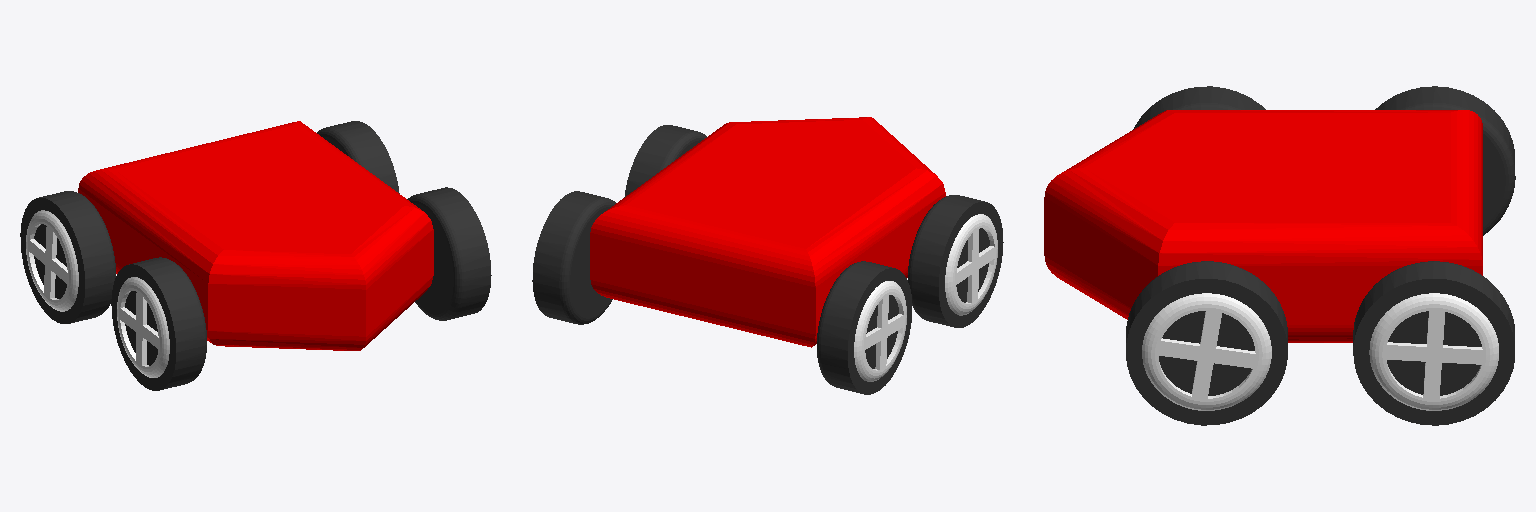
The robot description file, URDF, robot "robot_prueba_3":
<?xml version="1.0" encoding="utf-8"?>
<!-- This URDF was automatically created by SolidWorks to URDF Exporter! Originally created by [author] ([email redacted]) 
     Commit Version: 1.6.0-1-g15f4949  Build Version: 1.6.7594.29634
     For more information, please see http://wiki.ros.org/sw_urdf_exporter -->
<robot
  name="robot_prueba_3">
  <link
    name="base_car">
    <inertial>
      <origin
        xyz="0.00030715 -0.0027084 0.011218"
        rpy="0 0 0" />
      <mass
        value="0.45576" />
      <inertia
        ixx="0.00058942"
        ixy="-1.7857E-09"
        ixz="-1.0054E-09"
        iyy="0.00087806"
        iyz="-2.9187E-07"
        izz="0.00040358" />
    </inertial>
    <visual>
      <origin
        xyz="0 0 0"
        rpy="0 0 0" />
      <geometry>
        <mesh
          filename="package://robot_prueba_3/meshes/base_car.STL" />
      </geometry>
      <material
        name="">
        <color
          rgba="1 0 0 1" />
      </material>
    </visual>
    <collision>
      <origin
        xyz="0 0 0"
        rpy="0 0 0" />
      <geometry>
        <mesh
          filename="package://robot_prueba_3/meshes/base_car.STL" />
      </geometry>
    </collision>
  </link>
  <link
    name="wheel1_link">
    <inertial>
      <origin
        xyz="0.0076383 0 6.9389E-18"
        rpy="0 0 0" />
      <mass
        value="0.028764" />
      <inertia
        ixx="9.0239E-06"
        ixy="-8.1524E-24"
        ixz="4.2436E-23"
        iyy="5.0392E-06"
        iyz="0"
        izz="5.0392E-06" />
    </inertial>
    <visual>
      <origin
        xyz="0 0 0"
        rpy="0 0 0" />
      <geometry>
        <mesh
          filename="package://robot_prueba_3/meshes/wheel1_link.STL" />
      </geometry>
      <material
        name="">
        <color
          rgba="0.25098 0.25098 0.25098 1" />
      </material>
    </visual>
    <collision>
      <origin
        xyz="0 0 0"
        rpy="0 0 0" />
      <geometry>
        <mesh
          filename="package://robot_prueba_3/meshes/wheel1_link.STL" />
      </geometry>
    </collision>
  </link>
  <joint
    name="wheel1_joint"
    type="continuous">
    <origin
      xyz="0.055307 -0.037047 -0.012639"
      rpy="1.4172 0 0" />
    <parent
      link="base_car" />
    <child
      link="wheel1_link" />
    <axis
      xyz="1 0 0" />
  </joint>
  <link
    name="flag1">
    <inertial>
      <origin
        xyz="0.00091134 0 0"
        rpy="0 0 0" />
      <mass
        value="0.0013585" />
      <inertia
        ixx="2.8399E-07"
        ixy="-2.7213E-26"
        ixz="-5.6508E-25"
        iyy="1.4242E-07"
        iyz="0"
        izz="1.4242E-07" />
    </inertial>
    <visual>
      <origin
        xyz="0 0 0"
        rpy="0 0 0" />
      <geometry>
        <mesh
          filename="package://robot_prueba_3/meshes/flag1.STL" />
      </geometry>
      <material
        name="">
        <color
          rgba="1 1 1 1" />
      </material>
    </visual>
    <collision>
      <origin
        xyz="0 0 0"
        rpy="0 0 0" />
      <geometry>
        <mesh
          filename="package://robot_prueba_3/meshes/flag1.STL" />
      </geometry>
    </collision>
  </link>
  <joint
    name="flag1_joint"
    type="fixed">
    <origin
      xyz="0.015 0 0"
      rpy="0 0 0" />
    <parent
      link="wheel1_link" />
    <child
      link="flag1" />
    <axis
      xyz="0 0 0" />
  </joint>
  <link
    name="wheel2_link">
    <inertial>
      <origin
        xyz="0.0076383 0 -6.9389E-18"
        rpy="0 0 0" />
      <mass
        value="0.028764" />
      <inertia
        ixx="9.0239E-06"
        ixy="-9.6336E-25"
        ixz="1.0421E-22"
        iyy="5.0392E-06"
        iyz="5.294E-23"
        izz="5.0392E-06" />
    </inertial>
    <visual>
      <origin
        xyz="0 0 0"
        rpy="0 0 0" />
      <geometry>
        <mesh
          filename="package://robot_prueba_3/meshes/wheel2_link.STL" />
      </geometry>
      <material
        name="">
        <color
          rgba="0.25098 0.25098 0.25098 1" />
      </material>
    </visual>
    <collision>
      <origin
        xyz="0 0 0"
        rpy="0 0 0" />
      <geometry>
        <mesh
          filename="package://robot_prueba_3/meshes/wheel2_link.STL" />
      </geometry>
    </collision>
  </link>
  <joint
    name="wheel2_joint"
    type="continuous">
    <origin
      xyz="0.055307 0.032953 -0.012639"
      rpy="1.511 0 0" />
    <parent
      link="base_car" />
    <child
      link="wheel2_link" />
    <axis
      xyz="1 0 0" />
  </joint>
  <link
    name="flag2">
    <inertial>
      <origin
        xyz="0.00091134 0 -6.9389E-18"
        rpy="0 0 0" />
      <mass
        value="0.0013585" />
      <inertia
        ixx="2.8399E-07"
        ixy="-3.5406E-25"
        ixz="-3.4763E-25"
        iyy="1.4242E-07"
        iyz="1.6544E-24"
        izz="1.4242E-07" />
    </inertial>
    <visual>
      <origin
        xyz="0 0 0"
        rpy="0 0 0" />
      <geometry>
        <mesh
          filename="package://robot_prueba_3/meshes/flag2.STL" />
      </geometry>
      <material
        name="">
        <color
          rgba="1 1 1 1" />
      </material>
    </visual>
    <collision>
      <origin
        xyz="0 0 0"
        rpy="0 0 0" />
      <geometry>
        <mesh
          filename="package://robot_prueba_3/meshes/flag2.STL" />
      </geometry>
    </collision>
  </link>
  <joint
    name="flag2_joint"
    type="fixed">
    <origin
      xyz="0.015 0 0"
      rpy="0 0 0" />
    <parent
      link="wheel2_link" />
    <child
      link="flag2" />
    <axis
      xyz="0 0 0" />
  </joint>
  <link
    name="wheel3_link">
    <inertial>
      <origin
        xyz="-0.0076383 0 0"
        rpy="0 0 0" />
      <mass
        value="0.028764" />
      <inertia
        ixx="9.0239E-06"
        ixy="-8.637E-25"
        ixz="-1.1379E-22"
        iyy="5.0392E-06"
        iyz="1.3235E-23"
        izz="5.0392E-06" />
    </inertial>
    <visual>
      <origin
        xyz="0 0 0"
        rpy="0 0 0" />
      <geometry>
        <mesh
          filename="package://robot_prueba_3/meshes/wheel3_link.STL" />
      </geometry>
      <material
        name="">
        <color
          rgba="0.25098 0.25098 0.25098 1" />
      </material>
    </visual>
    <collision>
      <origin
        xyz="0 0 0"
        rpy="0 0 0" />
      <geometry>
        <mesh
          filename="package://robot_prueba_3/meshes/wheel3_link.STL" />
      </geometry>
    </collision>
  </link>
  <joint
    name="wheel3_joint"
    type="continuous">
    <origin
      xyz="-0.054693 -0.037047 -0.012639"
      rpy="1.5916 0 0" />
    <parent
      link="base_car" />
    <child
      link="wheel3_link" />
    <axis
      xyz="1 0 0" />
  </joint>
  <link
    name="flag3">
    <inertial>
      <origin
        xyz="0.00091134 -1.7347E-18 -6.9389E-18"
        rpy="0 0 0" />
      <mass
        value="0.0013585" />
      <inertia
        ixx="2.8399E-07"
        ixy="-5.3095E-25"
        ixz="-1.1788E-24"
        iyy="1.4242E-07"
        iyz="-3.5155E-24"
        izz="1.4242E-07" />
    </inertial>
    <visual>
      <origin
        xyz="0 0 0"
        rpy="0 0 0" />
      <geometry>
        <mesh
          filename="package://robot_prueba_3/meshes/flag3.STL" />
      </geometry>
      <material
        name="">
        <color
          rgba="1 1 1 1" />
      </material>
    </visual>
    <collision>
      <origin
        xyz="0 0 0"
        rpy="0 0 0" />
      <geometry>
        <mesh
          filename="package://robot_prueba_3/meshes/flag3.STL" />
      </geometry>
    </collision>
  </link>
  <joint
    name="flag3_joint"
    type="fixed">
    <origin
      xyz="-0.015 0 0"
      rpy="3.1416 0 -3.1416" />
    <parent
      link="wheel3_link" />
    <child
      link="flag3" />
    <axis
      xyz="0 0 0" />
  </joint>
  <link
    name="wheel4_link">
    <inertial>
      <origin
        xyz="-0.0076383 -1.7347E-18 -6.9389E-18"
        rpy="0 0 0" />
      <mass
        value="0.028764" />
      <inertia
        ixx="9.0239E-06"
        ixy="-1.7349E-23"
        ixz="-2.6922E-22"
        iyy="5.0392E-06"
        iyz="0"
        izz="5.0392E-06" />
    </inertial>
    <visual>
      <origin
        xyz="0 0 0"
        rpy="0 0 0" />
      <geometry>
        <mesh
          filename="package://robot_prueba_3/meshes/wheel4_link.STL" />
      </geometry>
      <material
        name="">
        <color
          rgba="0.25098 0.25098 0.25098 1" />
      </material>
    </visual>
    <collision>
      <origin
        xyz="0 0 0"
        rpy="0 0 0" />
      <geometry>
        <mesh
          filename="package://robot_prueba_3/meshes/wheel4_link.STL" />
      </geometry>
    </collision>
  </link>
  <joint
    name="wheel4_joint"
    type="continuous">
    <origin
      xyz="-0.054693 0.032953 -0.012639"
      rpy="1.6435 0 0" />
    <parent
      link="base_car" />
    <child
      link="wheel4_link" />
    <axis
      xyz="1 0 0" />
  </joint>
  <link
    name="flag4">
    <inertial>
      <origin
        xyz="0.00091134 1.7347E-18 0"
        rpy="0 0 0" />
      <mass
        value="0.0013585" />
      <inertia
        ixx="2.8399E-07"
        ixy="2.6389E-26"
        ixz="-1.987E-24"
        iyy="1.4242E-07"
        iyz="-4.9631E-24"
        izz="1.4242E-07" />
    </inertial>
    <visual>
      <origin
        xyz="0 0 0"
        rpy="0 0 0" />
      <geometry>
        <mesh
          filename="package://robot_prueba_3/meshes/flag4.STL" />
      </geometry>
      <material
        name="">
        <color
          rgba="1 1 1 1" />
      </material>
    </visual>
    <collision>
      <origin
        xyz="0 0 0"
        rpy="0 0 0" />
      <geometry>
        <mesh
          filename="package://robot_prueba_3/meshes/flag4.STL" />
      </geometry>
    </collision>
  </link>
  <joint
    name="flag4_joint"
    type="fixed">
    <origin
      xyz="-0.015 0 0"
      rpy="-3.1416 0 -3.1416" />
    <parent
      link="wheel4_link" />
    <child
      link="flag4" />
    <axis
      xyz="0 0 0" />
  </joint>
</robot>

--- Render facts (derived) ---
The picture shows the robot from 3 angles, left to right: view 1: azimuth 30°, elevation 25°; view 2: azimuth 150°, elevation 25°; view 3: azimuth 270°, elevation 25°; orthographic projection.
Robot: robot_prueba_3 — 9 links, 8 joints (4 continuous, 4 fixed); root link base_car; default pose: all joints at 0.
Links seen in each view (by area): view 1: base_car, wheel1_link, wheel3_link, wheel4_link, flag4, flag3, wheel2_link; view 2: base_car, wheel2_link, wheel4_link, wheel3_link, flag3, flag4, wheel1_link; view 3: base_car, wheel1_link, wheel2_link, flag1, flag2, wheel4_link, wheel3_link.
Link boxes in pixels (x1,y1,x2,y2): base_car: (78,121,433,350); wheel1_link: (407,187,491,320); wheel3_link: (111,257,206,390); wheel4_link: (20,191,115,323); flag4: (26,210,78,311); flag3: (117,277,169,377); wheel2_link: (317,121,399,193); base_car: (590,117,945,347); wheel2_link: (532,191,615,324); wheel4_link: (817,261,911,394); wheel3_link: (908,195,1003,327); flag3: (945,214,997,315); flag4: (854,281,906,381); wheel1_link: (624,125,706,197); base_car: (1044,110,1482,342); wheel1_link: (1126,261,1287,425); wheel2_link: (1353,261,1514,425); flag1: (1142,293,1271,410); flag2: (1369,293,1498,410); wheel4_link: (1375,86,1515,235); wheel3_link: (1133,86,1265,129).
Size in the robot's own frame: 0.144 by 0.145 by 0.055 metres.
Meshes: 9 distinct files referenced, 9 mesh visuals loaded (9 binary STL).